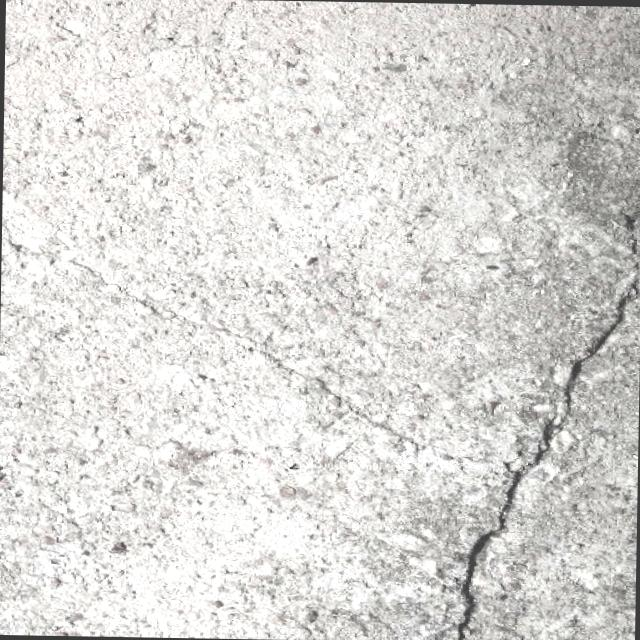crack: (8, 236, 490, 472), (448, 209, 640, 640)
